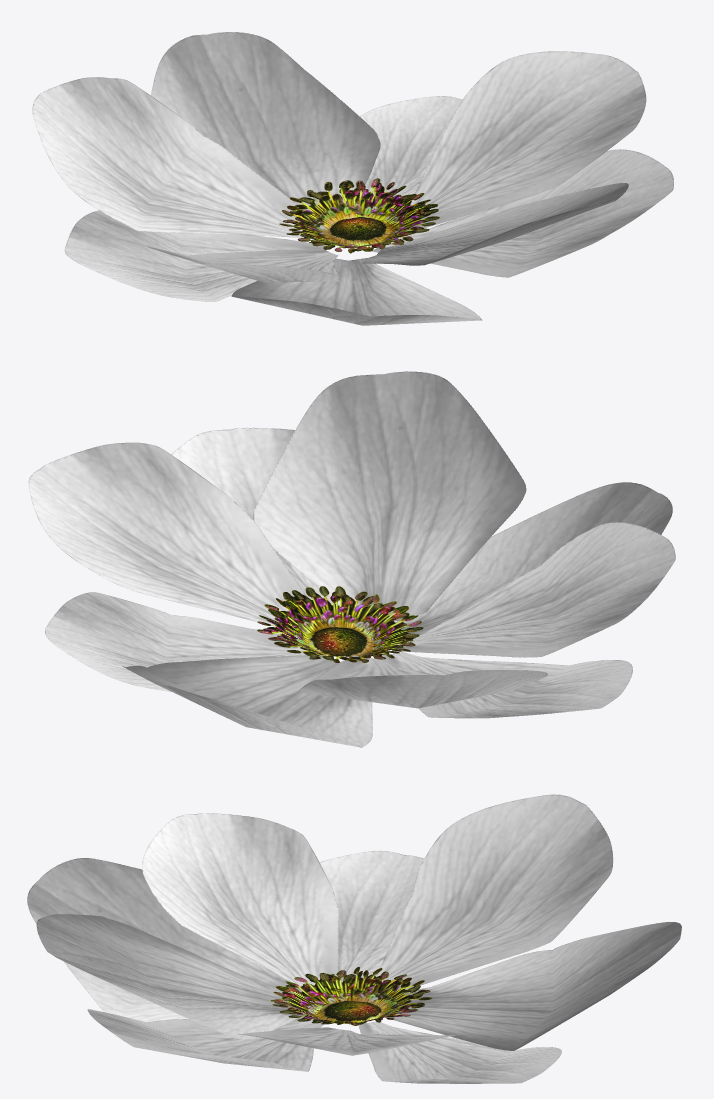
The model's file is petal.fbx.
3 renders of one model, top to bottom at view 1: azimuth 30°, elevation 25°; view 2: azimuth 150°, elevation 25°; view 3: azimuth 270°, elevation 25°, orthographic. The views are drawn at different scales.
Visible parts, largest first — view 1: Cylinder.006; view 2: Cylinder.006; view 3: Cylinder.006.
Boxes of the visible parts, x1=… form: Cylinder.006: x1=32, y1=32, x2=673, y2=325; Cylinder.006: x1=28, y1=371, x2=675, y2=747; Cylinder.006: x1=27, y1=794, x2=681, y2=1083.
Size of the model in its own units: 209 by 46.02 by 206.
Materials: 1 (1 with a texture image).
